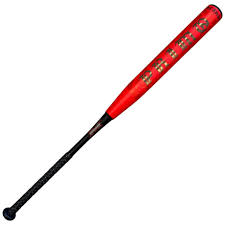baseball bat: (3, 3, 224, 221)
